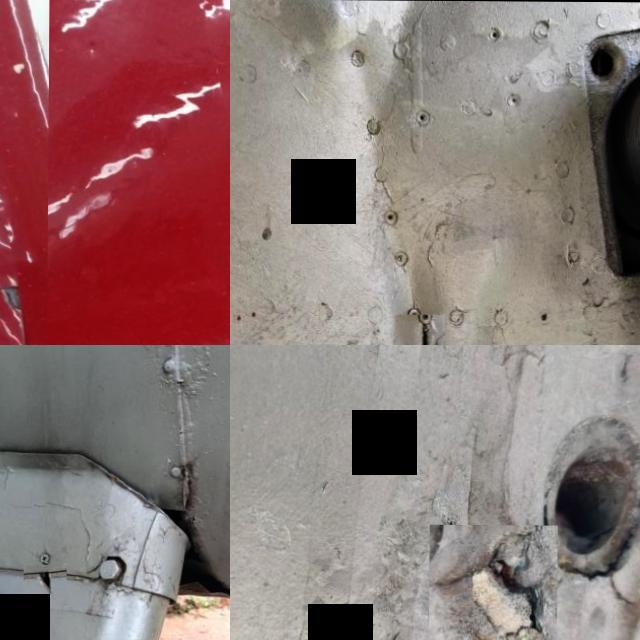Crack: (0, 0, 49, 345), (429, 523, 558, 640), (23, 561, 68, 605), (394, 314, 445, 345)
